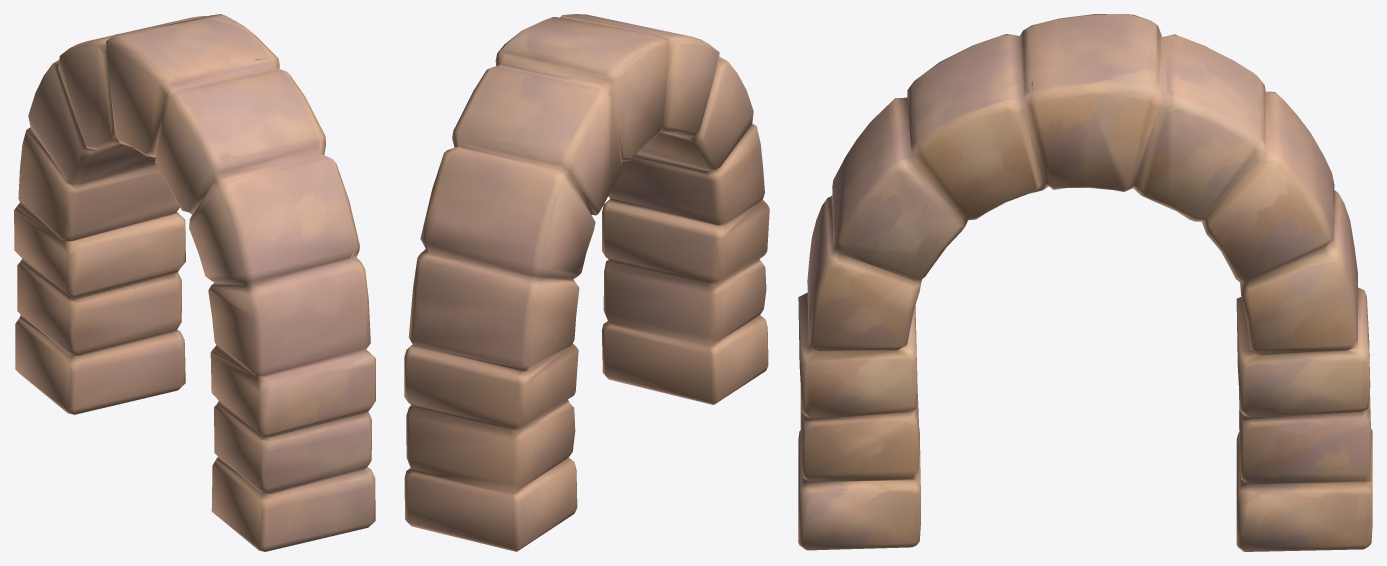
The model's file is stone_arch.glb.
The picture shows the model from 3 angles, left to right: view 1: azimuth 30°, elevation 25°; view 2: azimuth 150°, elevation 25°; view 3: azimuth 270°, elevation 25°; orthographic projection. The views are drawn at different scales.
Parts seen in each view (by area): view 1: tripo_node_9ff3c16c-9da5-417e-9db2-8c3d159317d5; view 2: tripo_node_9ff3c16c-9da5-417e-9db2-8c3d159317d5; view 3: tripo_node_9ff3c16c-9da5-417e-9db2-8c3d159317d5.
Part boxes in pixels (<box>): tripo_node_9ff3c16c-9da5-417e-9db2-8c3d159317d5: <box>14,14,375,551</box>; tripo_node_9ff3c16c-9da5-417e-9db2-8c3d159317d5: <box>404,14,769,551</box>; tripo_node_9ff3c16c-9da5-417e-9db2-8c3d159317d5: <box>798,14,1372,551</box>.
Bounding box in the file's own units: 0.2871 × 0.916 × 0.998.
Materials: 1 (1 with a texture image).
